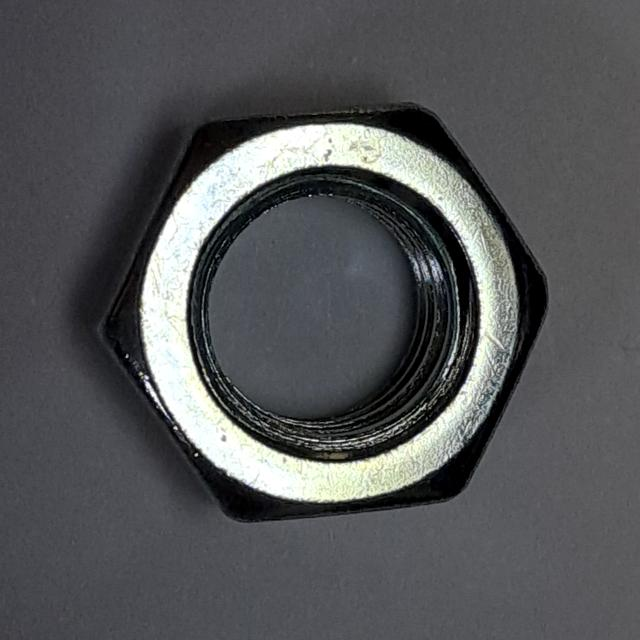Excellent: (68, 89, 561, 539)
